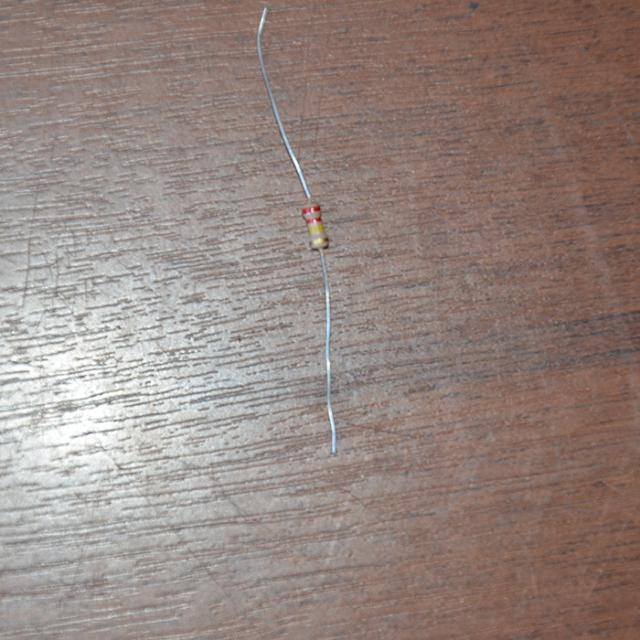gold: (309, 238, 327, 246)
red: (303, 205, 320, 212), (305, 218, 321, 223)
resistor: (299, 199, 331, 256)
yellow: (308, 225, 325, 232)
